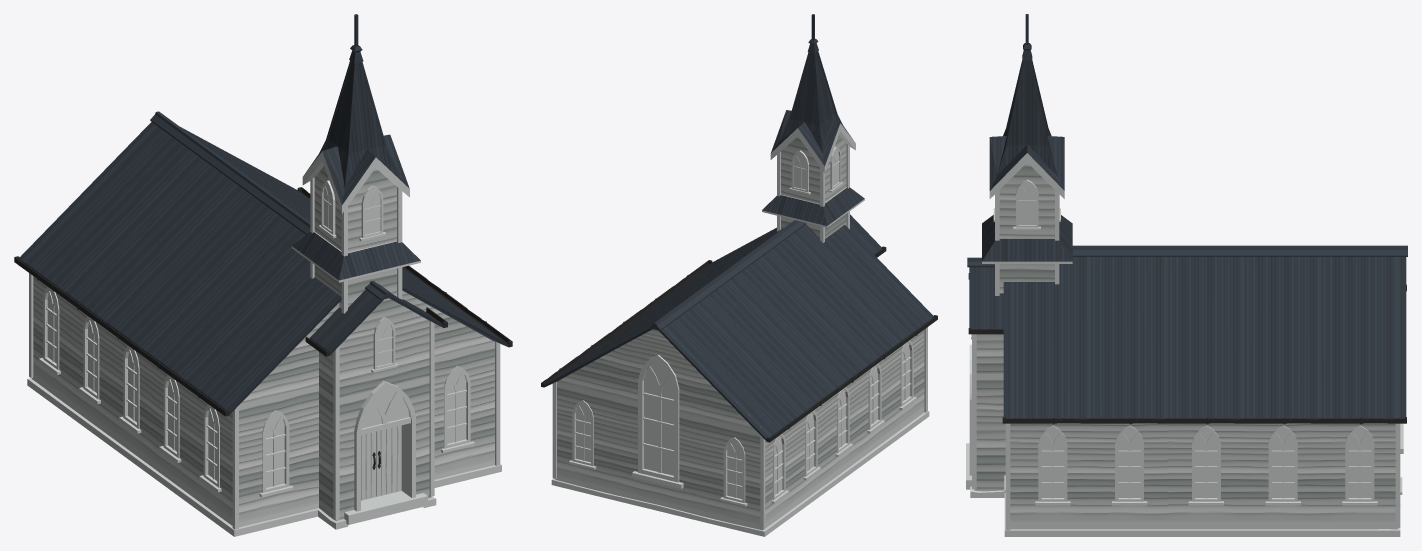
File: SM_Bld_Church_01.fbx
3 views of the same model, side by side, from view 1: azimuth 30°, elevation 25°; view 2: azimuth 150°, elevation 25°; view 3: azimuth 270°, elevation 25° (orthographic). The views are drawn at different scales.
Parts seen in each view (by area): view 1: SM_Bld_Church_01, SM_Bld_Church_Glass_01, SM_Bld_Church_Door_02, SM_Bld_Church_Door_01; view 2: SM_Bld_Church_01, SM_Bld_Church_Glass_01; view 3: SM_Bld_Church_01, SM_Bld_Church_Glass_01.
Boxes of the visible parts, box(x1,y1,x2,y2) form: SM_Bld_Church_01: box(14, 14, 512, 536); SM_Bld_Church_Glass_01: box(47, 184, 466, 487); SM_Bld_Church_Door_02: box(376, 425, 401, 496); SM_Bld_Church_Door_01: box(361, 431, 375, 500); SM_Bld_Church_01: box(541, 14, 937, 536); SM_Bld_Church_Glass_01: box(576, 149, 909, 498); SM_Bld_Church_01: box(966, 14, 1407, 536); SM_Bld_Church_Glass_01: box(1018, 183, 1371, 497).
Size of the model in its own units: 1037 by 1652 by 1439.
